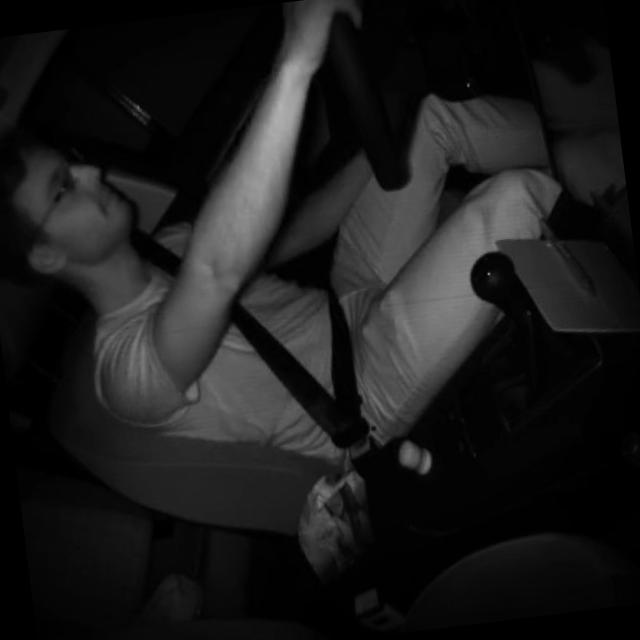pen: (535, 209, 600, 306)
